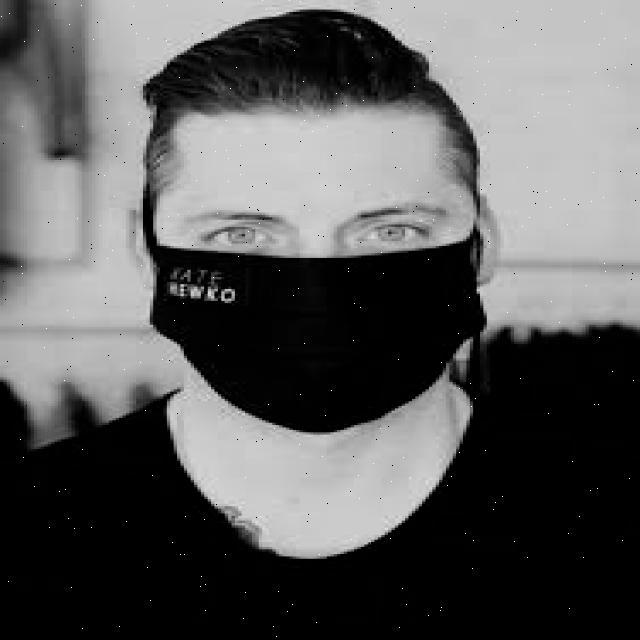fake: (148, 228, 506, 458)
real: (157, 104, 476, 441)
